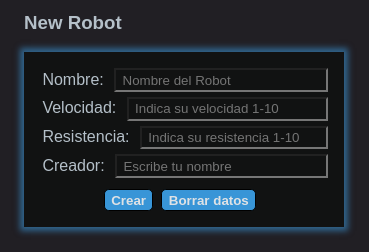
Scenario: Given "AddRobots" component › When data are provided in the form › Then the reset button could be used for reset all inputs
Step 1. Type "Test name" into the field labelled "Nombre:" → (221, 80), box [114,68,328,92]
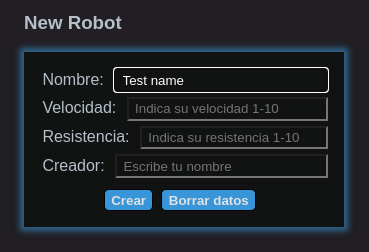
Step 2. Type "2" into the number field labelled "Velocidad:" → (227, 109), box [127,97,328,121]
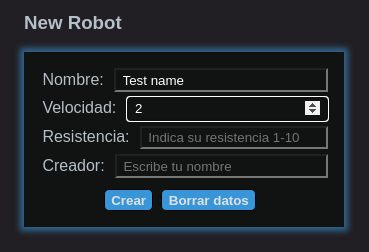
Step 3. Type "2" into the number field labelled "Resistencia:" → (234, 138), box [140,126,328,149]
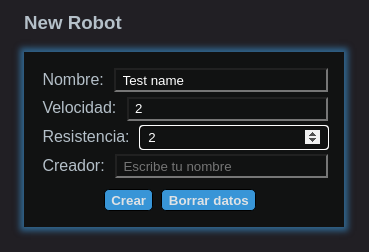
Step 4. Type "Test creationUser" into the field labelled "Creador:" → (222, 166), box [115,154,328,178]
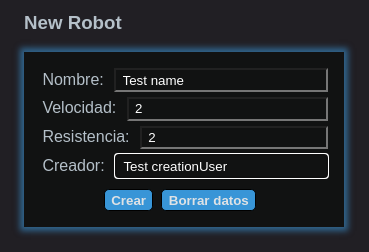
Step 5. Click the button "Borrar datos" → click(209, 200), box [161,189,256,211]
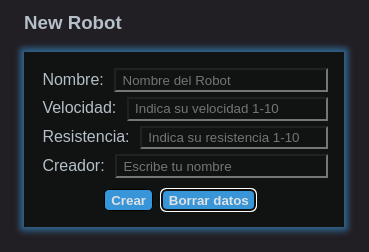
Check: the field labelled "Nombre:" is empty, box [114,68,328,92]
Check: the number field labelled "Velocidad:" is not empty, box [127,97,328,121]
Check: the number field labelled "Resistencia:" is not empty, box [140,126,328,149]
